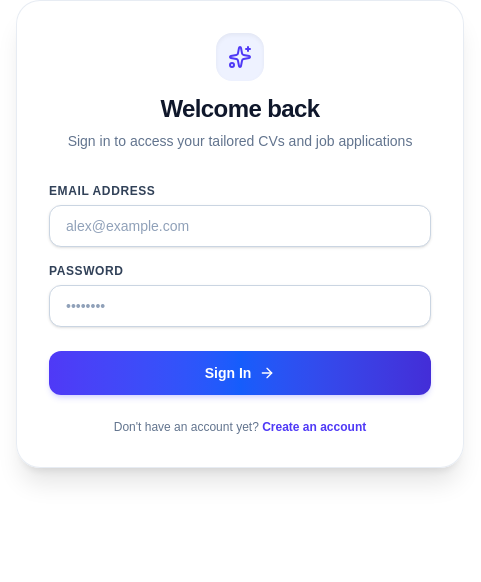
Test: LoginForm (Ticket 04) › shows validation error when email is invalid
The width and height of the screenshot is (481, 582).
Type "not-an-email" into the field labelled "Email Address" at (240, 226), box x1=49 y1=205 x2=431 y2=247
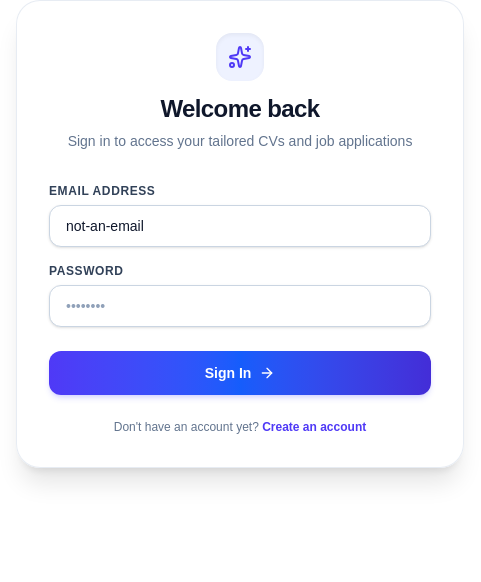
Type "secret123" into the password field labelled "Password" at (240, 306), box x1=49 y1=285 x2=431 y2=327
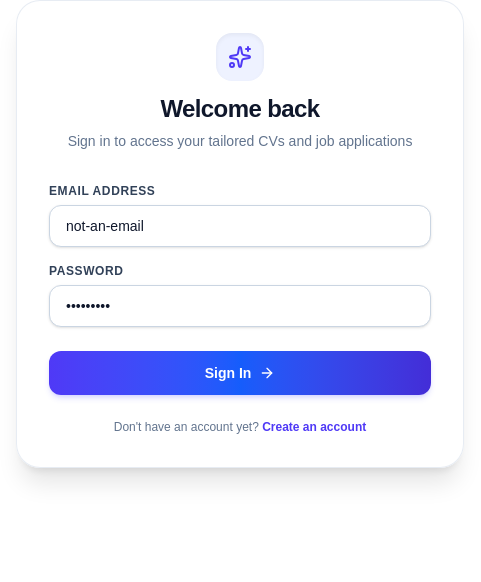
Click the button with test id "login-submit-btn" at (240, 373), box x1=49 y1=351 x2=431 y2=395
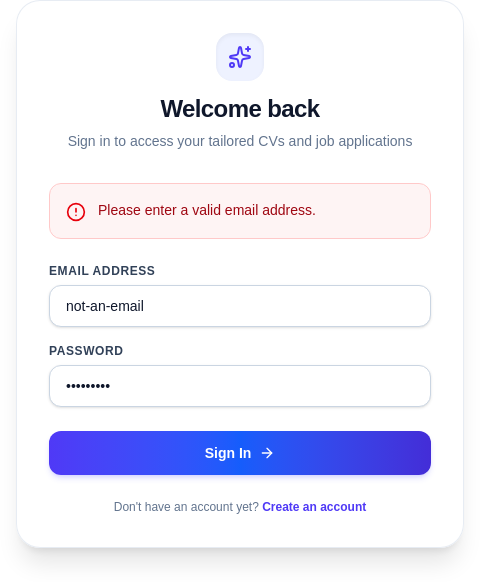
Expected: the text "Please enter a valid email address." is shown, x1=98 y1=202 x2=316 y2=218
